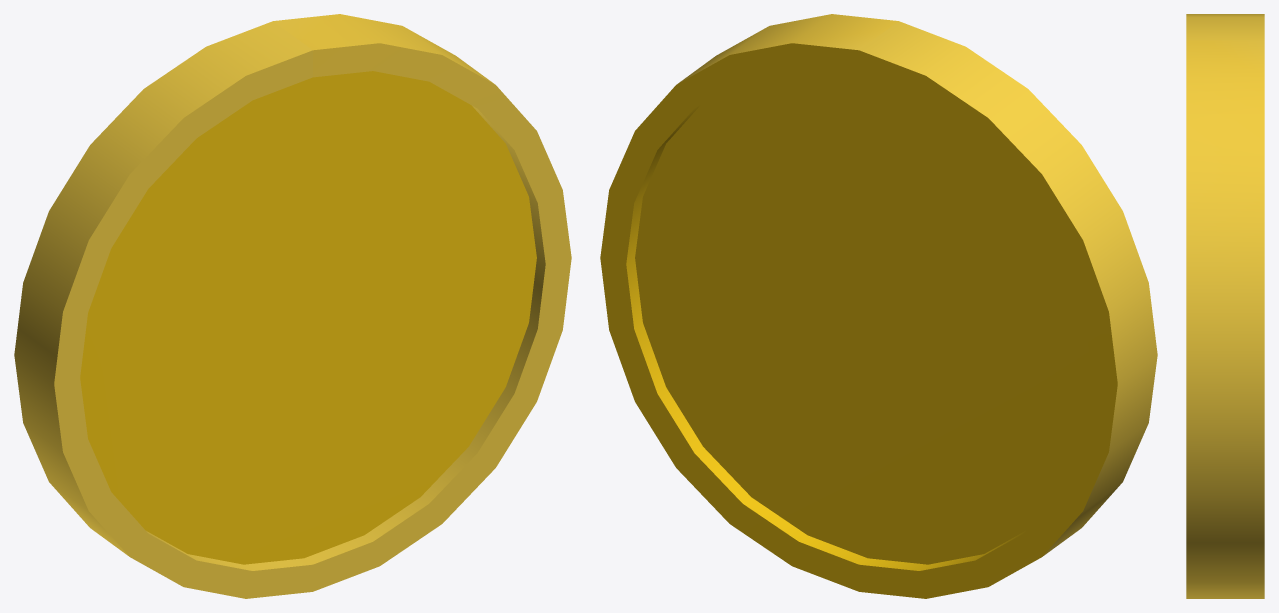
File: Coin.fbx
3 views of the same model, side by side, from view 1: azimuth 30°, elevation 25°; view 2: azimuth 150°, elevation 25°; view 3: azimuth 270°, elevation 25° (orthographic).
Visible parts, largest first — view 1: Coin; view 2: Coin; view 3: Coin.
Boxes of the visible parts, box(x1,y1,x2,y2) form: Coin: box(14, 14, 571, 598); Coin: box(600, 14, 1157, 598); Coin: box(1186, 14, 1264, 598).
Bounding box in the file's own units: 1.24 × 1.24 × 0.1654.
